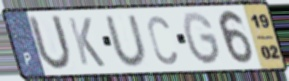6: (217, 8, 255, 67)
C: (146, 13, 180, 67)
G: (181, 10, 224, 68)
K: (65, 16, 108, 69)
U: (25, 13, 74, 73), (102, 13, 151, 68)
